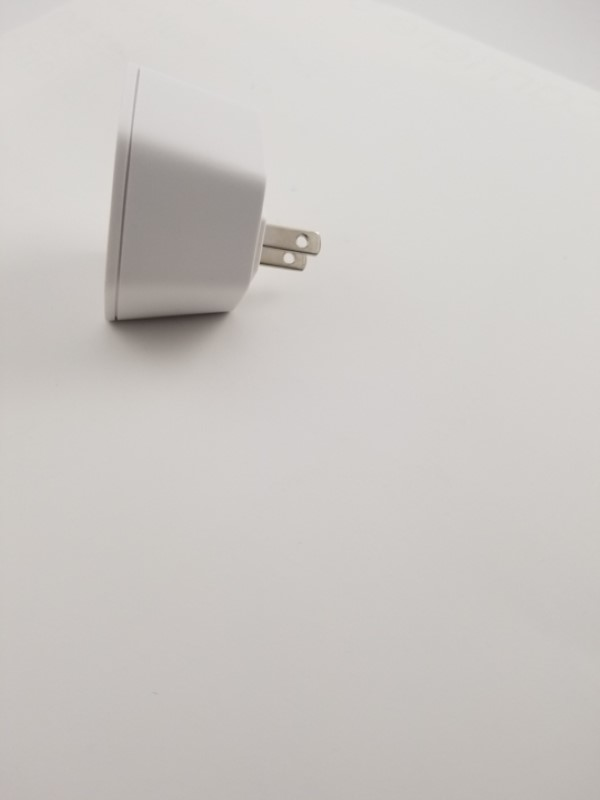pod: (100, 56, 330, 341)
